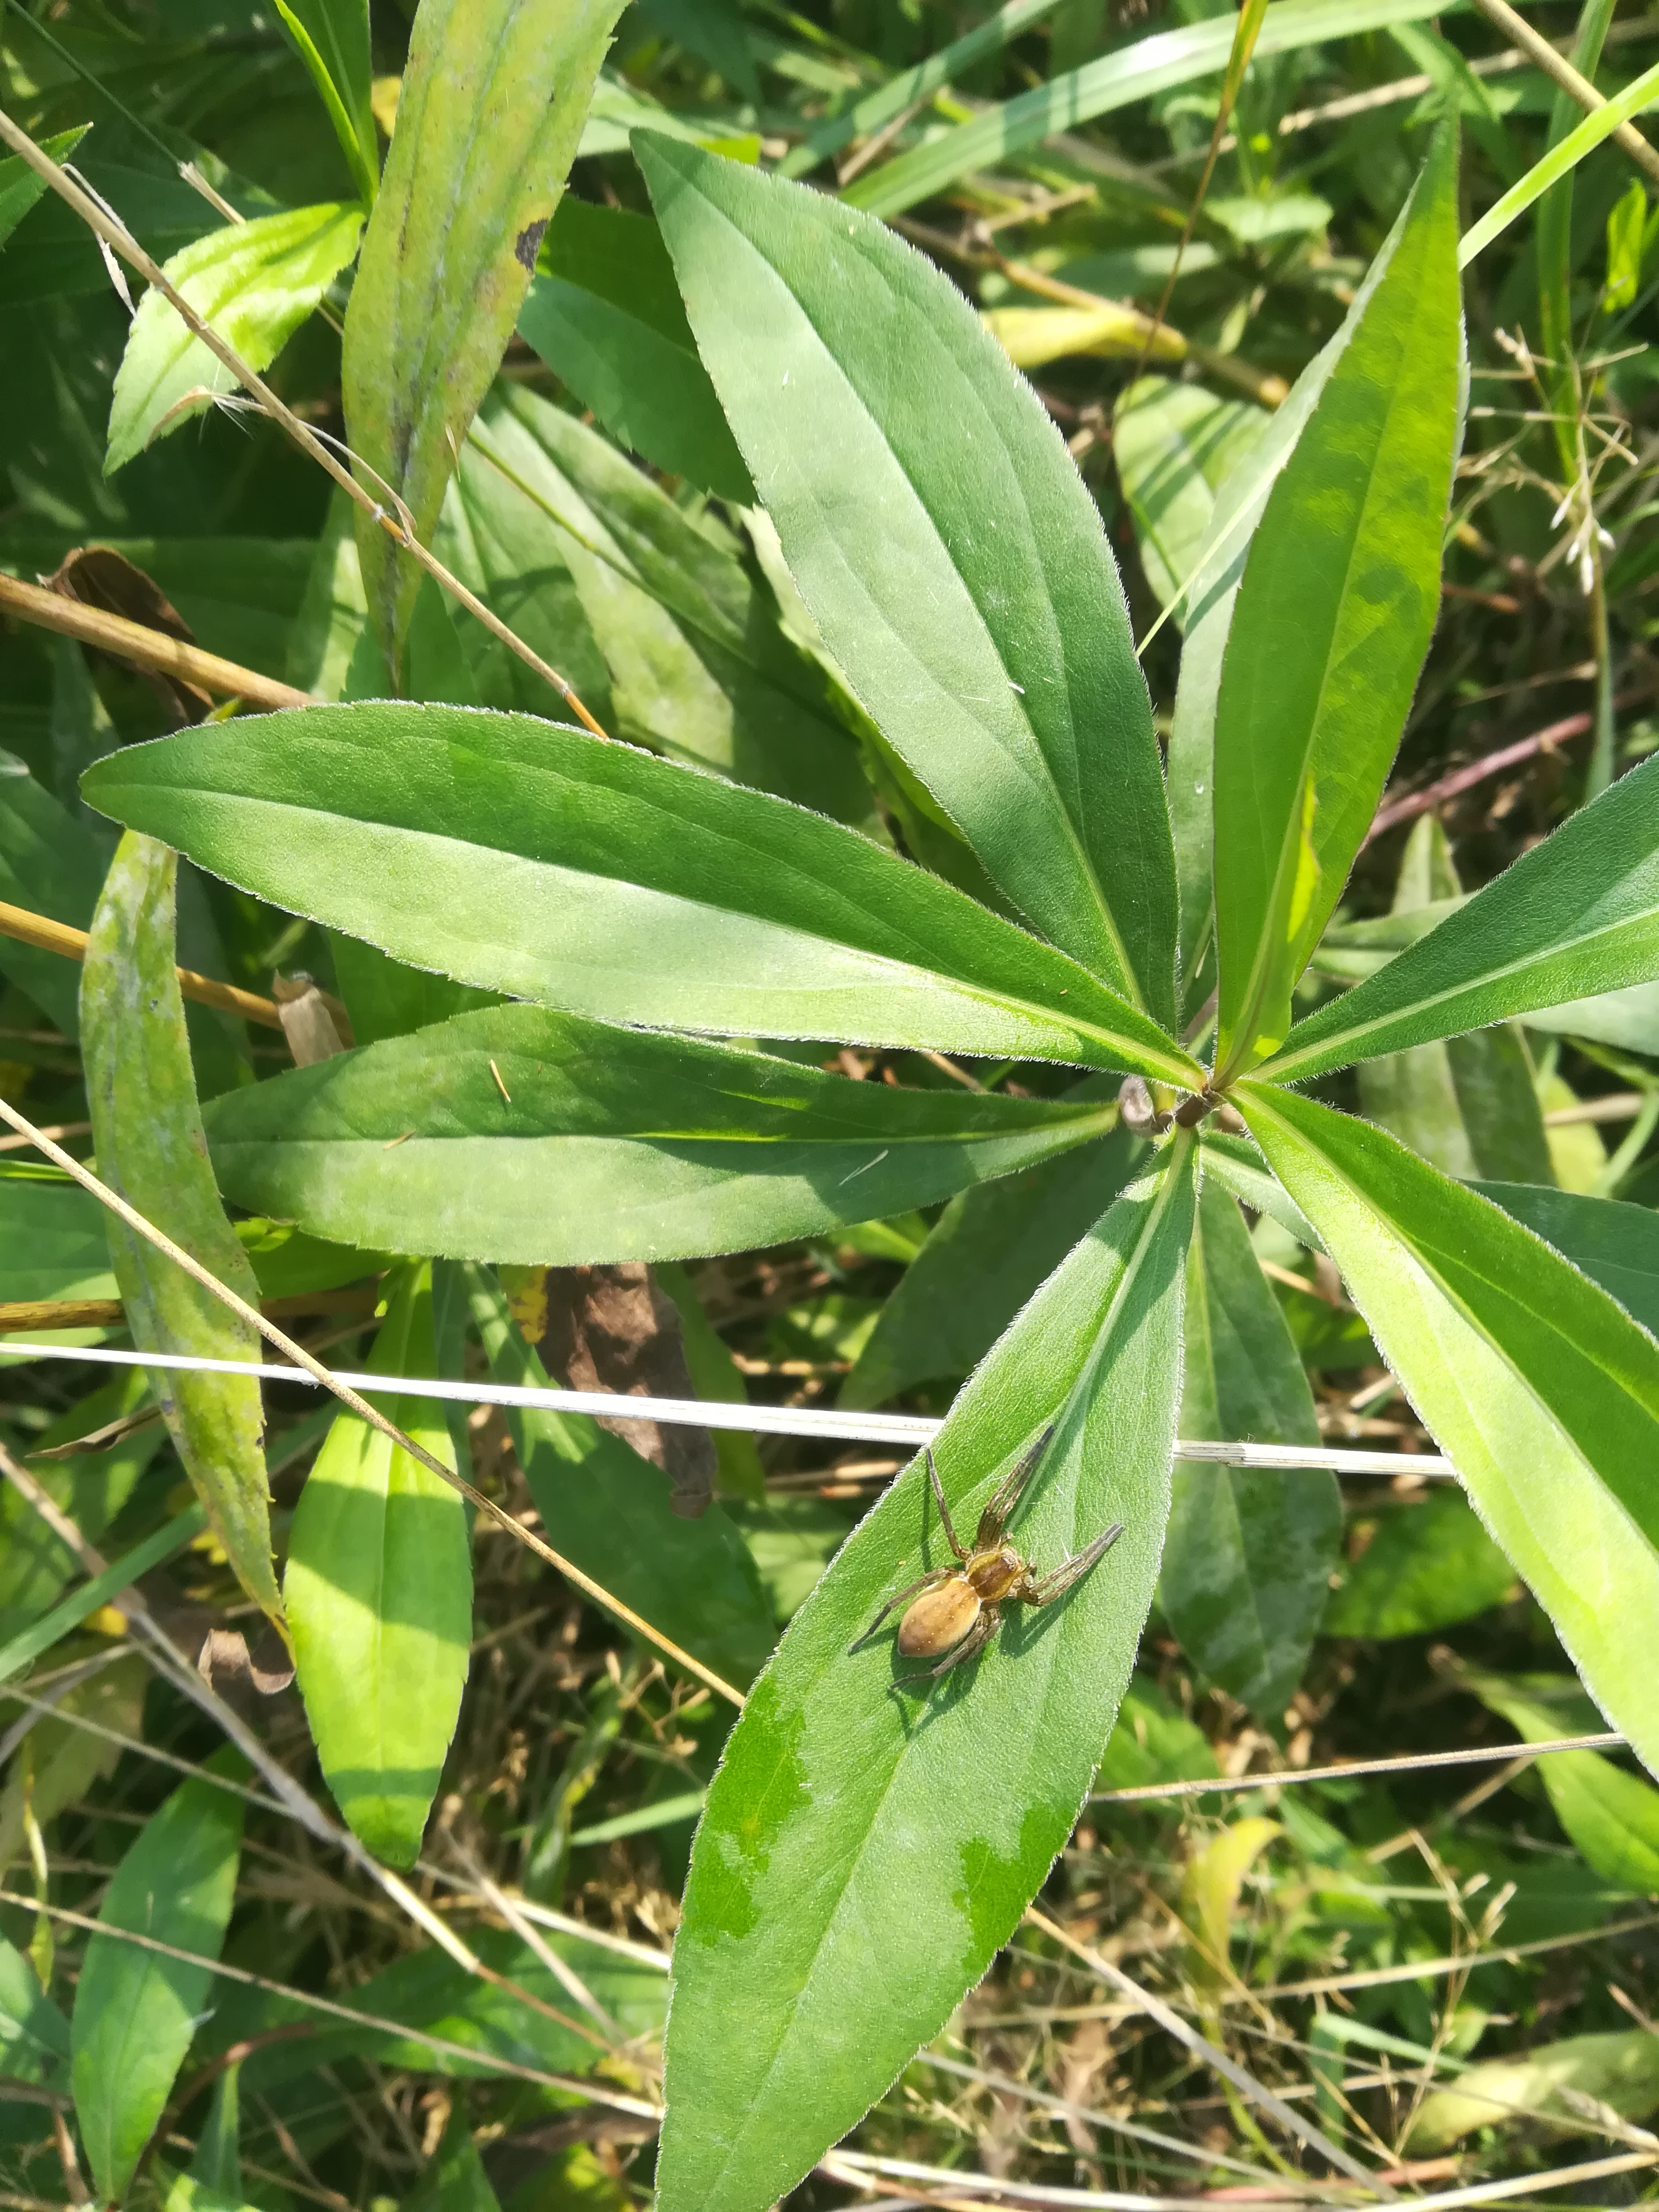spider: (821, 1393, 1168, 1731)
